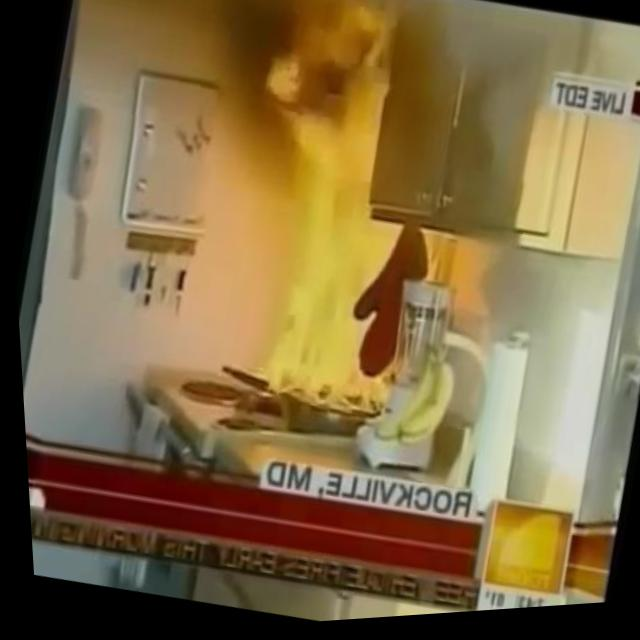fire: (218, 96, 464, 440)
